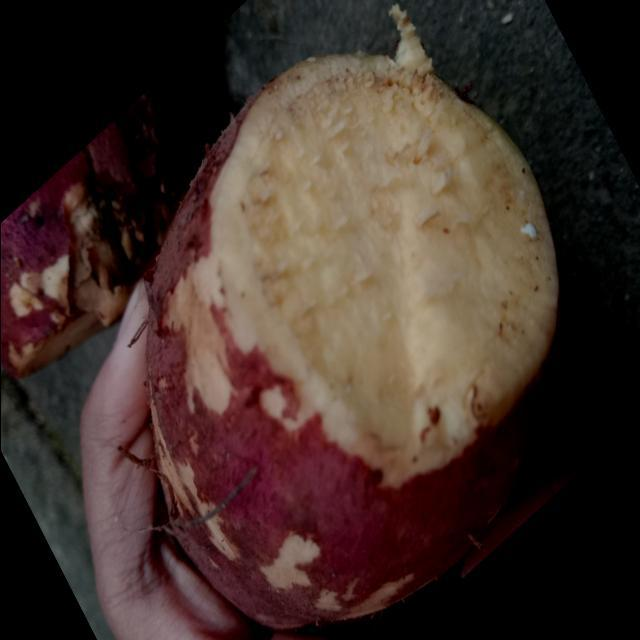Healthy Sweet Potato: (212, 55, 558, 485)
